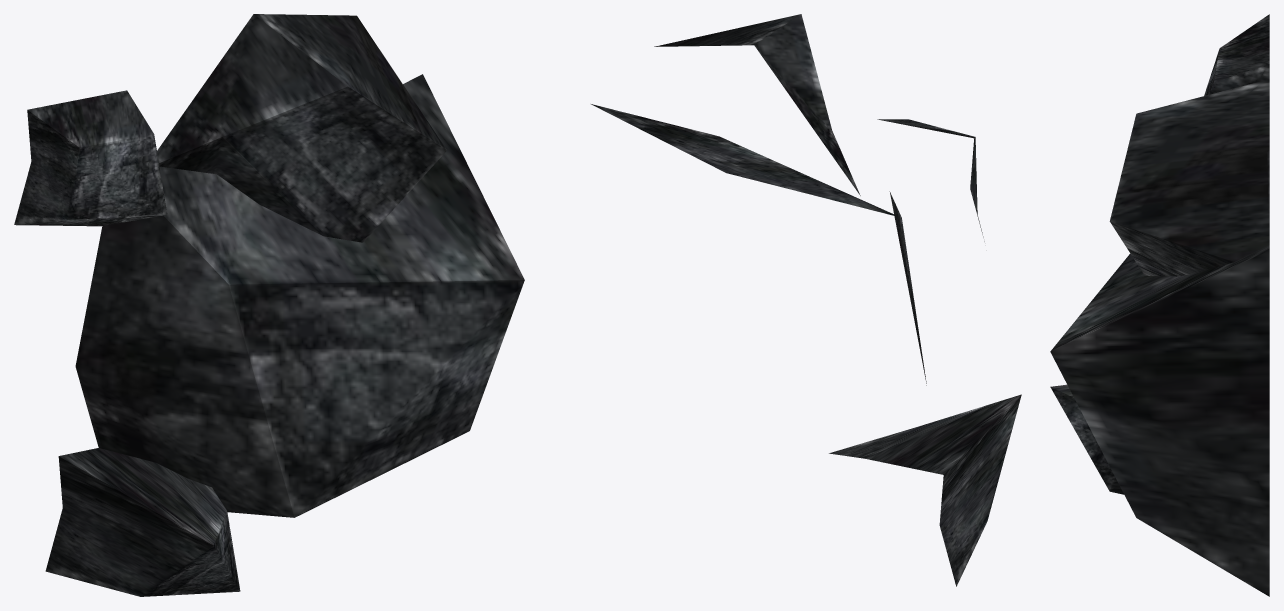
3 renders of one model, left to right at view 1: azimuth 30°, elevation 25°; view 2: azimuth 150°, elevation 25°; view 3: azimuth 270°, elevation 25°, orthographic. The views are drawn at different scales.
Visible parts, largest first — view 1: model_object28_; view 2: model_object28_; view 3: model_object28_.
Part boxes in pixels (left/top/right/bottom): model_object28_: left=14, top=14, right=524, bottom=596; model_object28_: left=591, top=14, right=1021, bottom=586; model_object28_: left=1050, top=14, right=1269, bottom=596.
Size of the model in its own units: 1.78 by 2.03 by 0.8132.
Materials: 1 (1 with a texture image).
